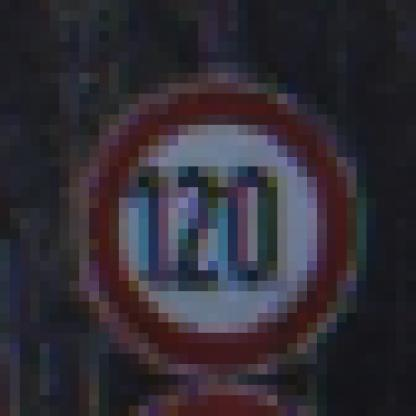Speed Limit 120: (99, 90, 352, 368)
